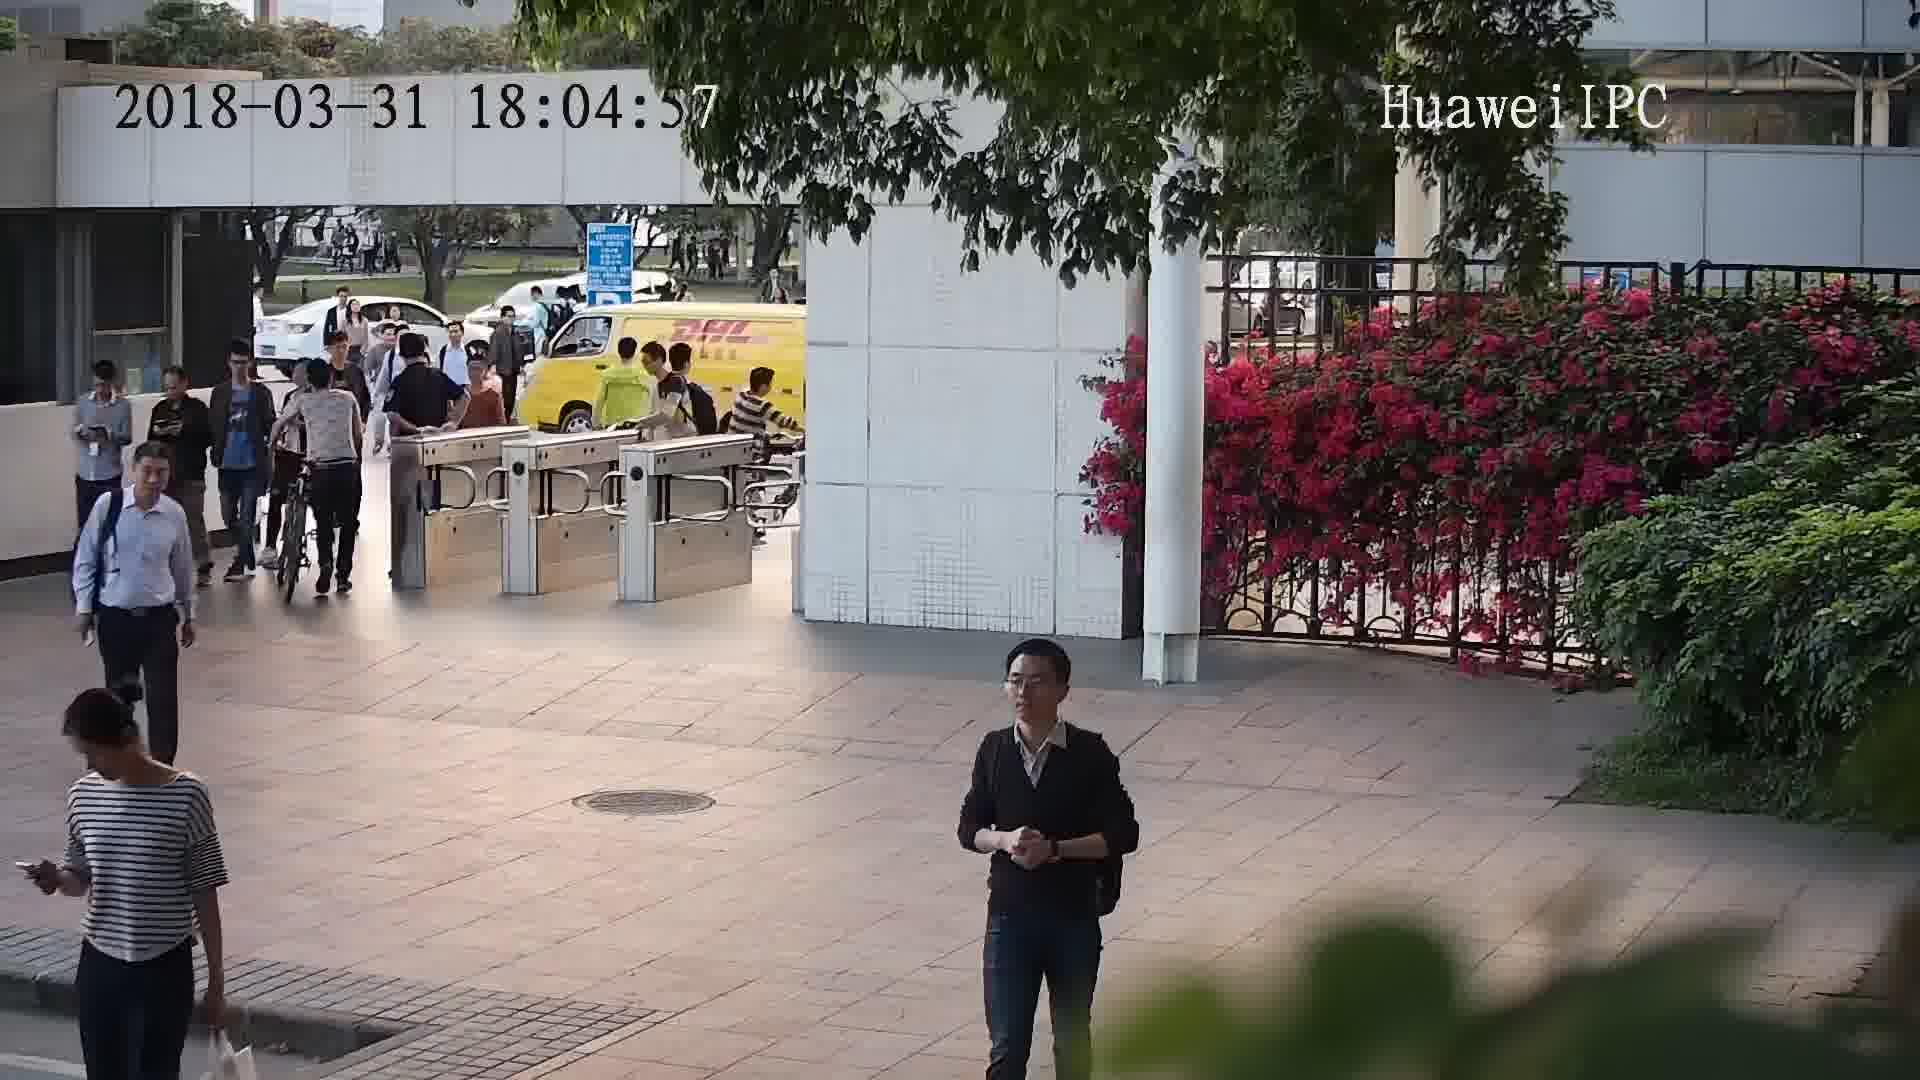face: (1002, 654, 1063, 715), (130, 454, 173, 504)
person: (61, 687, 209, 823), (978, 632, 1116, 774), (92, 442, 190, 530), (211, 347, 275, 404), (292, 359, 359, 412), (80, 356, 137, 416), (152, 361, 209, 418), (391, 332, 450, 387), (314, 325, 364, 372), (461, 341, 505, 395), (735, 362, 781, 410), (659, 341, 703, 391), (638, 337, 681, 386), (599, 334, 645, 377), (366, 319, 410, 364), (435, 314, 476, 360), (365, 319, 402, 360), (491, 303, 525, 335), (326, 285, 357, 318), (336, 294, 366, 329), (522, 286, 554, 316), (551, 281, 580, 312)
